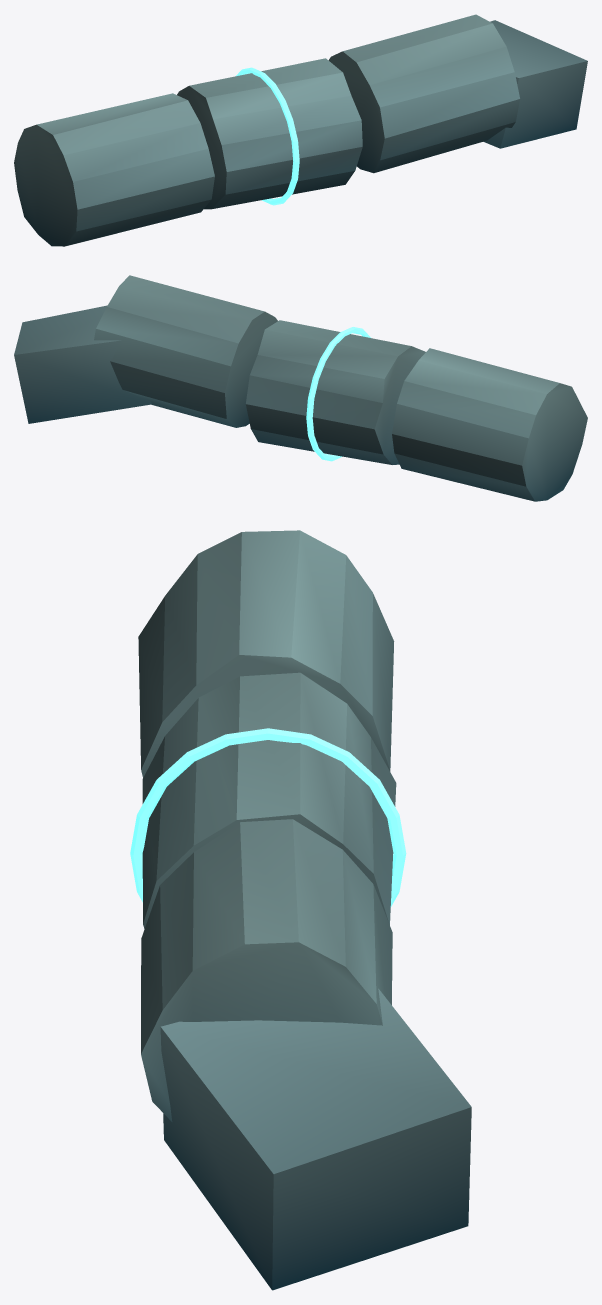
Rendered from ruin_pillar_fallen.glb.
The picture shows the model from 3 angles, top to bottom: view 1: azimuth 30°, elevation 25°; view 2: azimuth 150°, elevation 25°; view 3: azimuth 270°, elevation 25°; orthographic projection. The views are drawn at different scales.
Visible parts, largest first — view 1: ruin_pillar_fallen_stone, ruin_pillar_fallen_glow; view 2: ruin_pillar_fallen_stone, ruin_pillar_fallen_glow; view 3: ruin_pillar_fallen_stone, ruin_pillar_fallen_glow.
Boxes of the visible parts, x1,y1,x2,y2 form: ruin_pillar_fallen_stone: [14, 14, 587, 246]; ruin_pillar_fallen_glow: [236, 67, 299, 205]; ruin_pillar_fallen_stone: [14, 275, 587, 501]; ruin_pillar_fallen_glow: [306, 327, 370, 461]; ruin_pillar_fallen_stone: [138, 530, 471, 1290]; ruin_pillar_fallen_glow: [130, 728, 406, 907].
Size of the model in its own units: 7.65 by 1.8 by 2.13.
